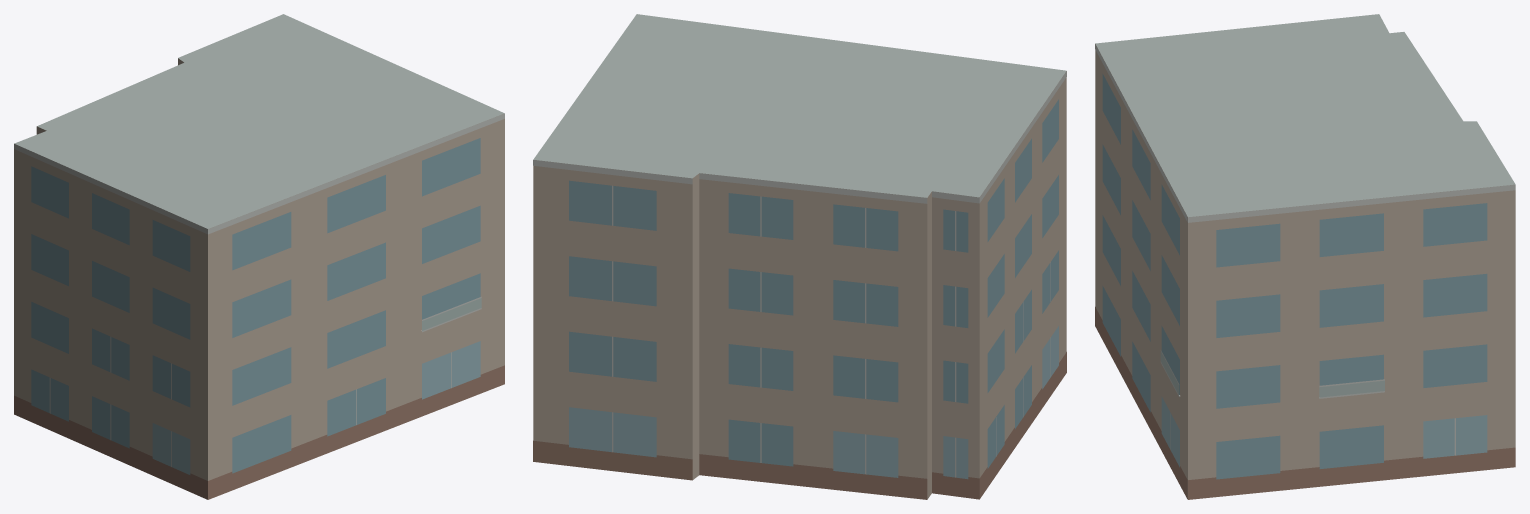
File: survey-upis-32672138.glb
3 views of the same model, side by side, from view 1: azimuth 30°, elevation 25°; view 2: azimuth 150°, elevation 25°; view 3: azimuth 270°, elevation 25° (orthographic). The views are drawn at different scales.
Visible parts, largest first — view 1: survey-upis-32672138.tmp; view 2: survey-upis-32672138.tmp; view 3: survey-upis-32672138.tmp.
Boxes of the visible parts, left/top/right/bottom form: survey-upis-32672138.tmp: left=14, top=14, right=504, bottom=499; survey-upis-32672138.tmp: left=533, top=14, right=1066, bottom=499; survey-upis-32672138.tmp: left=1095, top=14, right=1515, bottom=499.
Bounding box in the file's own units: 18.82 × 12.2 × 16.46.
